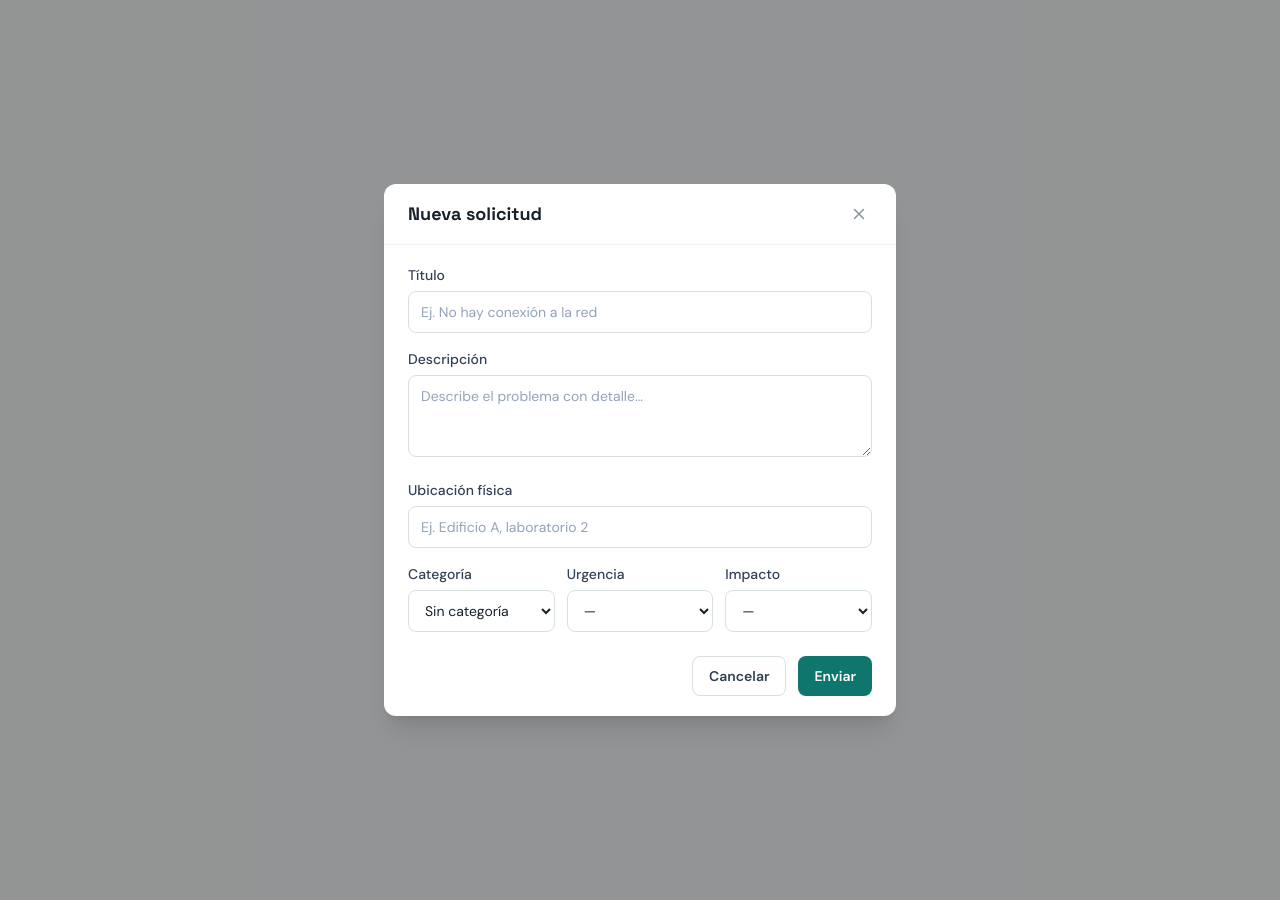
it: SolicitudForm: alta de solicitudes (S3-02 y S3-05, HU-01.1) › AC2: campos vacíos muestra errores y no envía
Click the button "Enviar": coordinates (835, 676) x1=798 y1=656 x2=872 y2=696
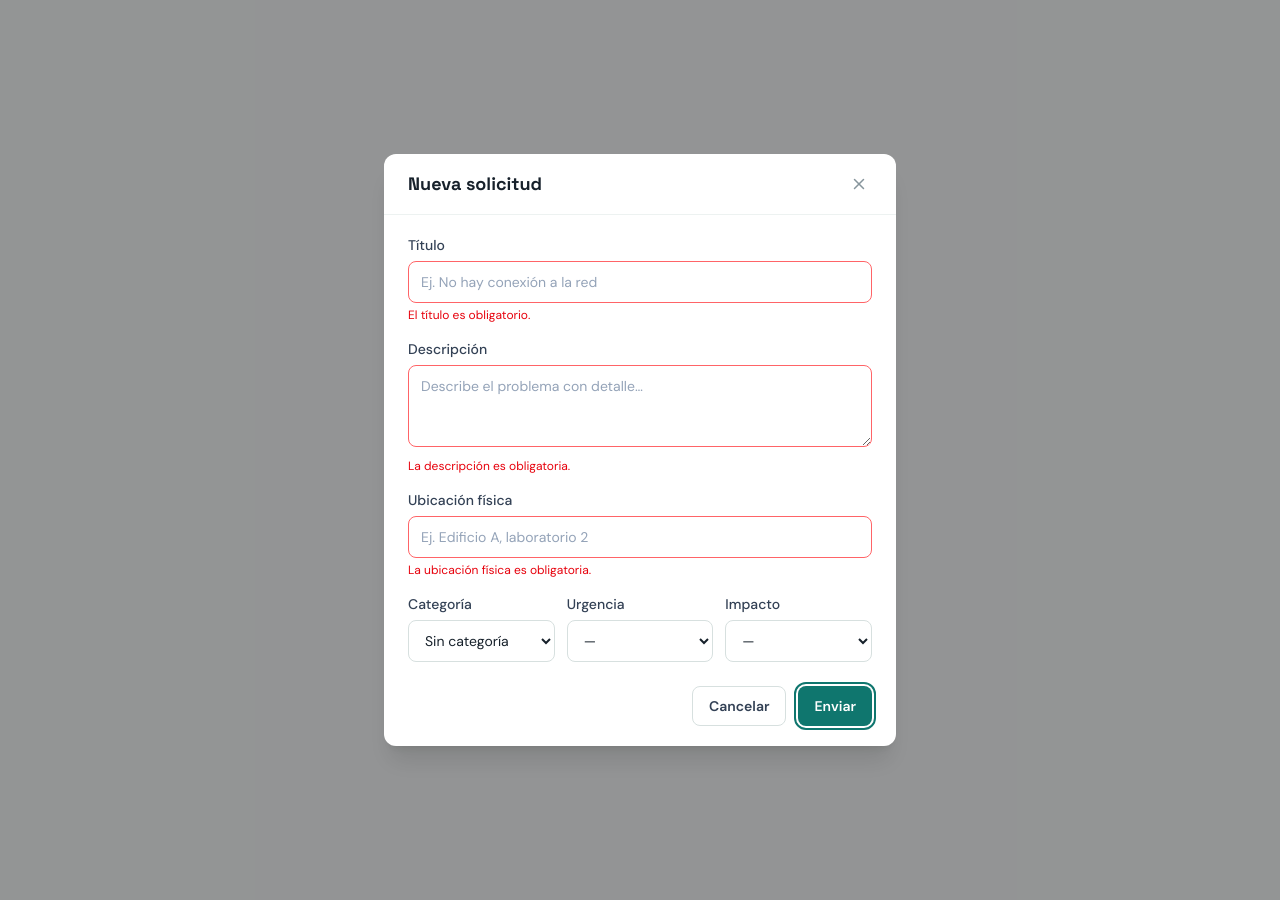
Result: the text "El título es obligatorio." is shown at x1=408 y1=307 x2=530 y2=323
Result: the text "La descripción es obligatoria." is shown at x1=408 y1=458 x2=570 y2=474
Result: the text "La ubicación física es obligatoria." is shown at x1=408 y1=562 x2=591 y2=578
